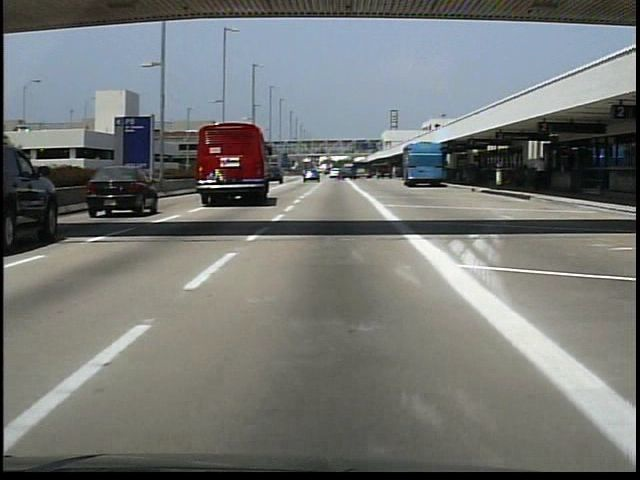person: (534, 157, 549, 193)
